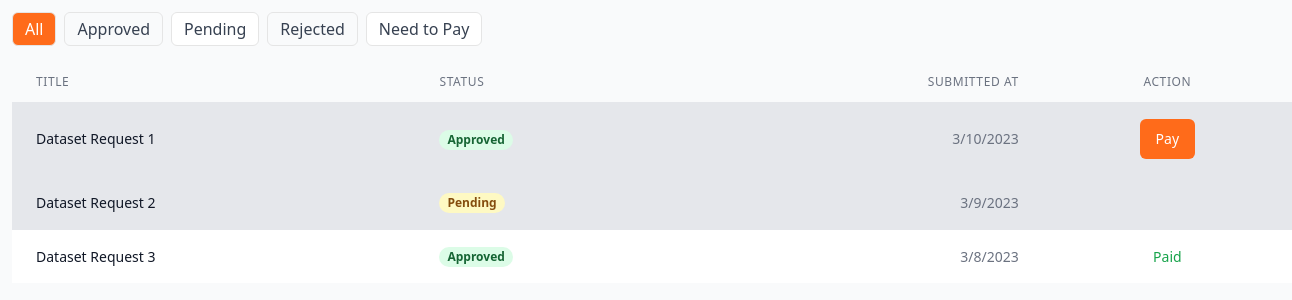
Test: DatasetRequestTable Component › filters requests by Need to Pay toggle
Expected: the text "Dataset Request 1" is shown, 12,102 -> 415,176
Expected: the text "Dataset Request 3" is shown, 12,230 -> 415,283
// Toggle the "Need to Pay" button.
Click the button "Need to Pay". click: (424, 29)
box: 366,12 -> 482,46
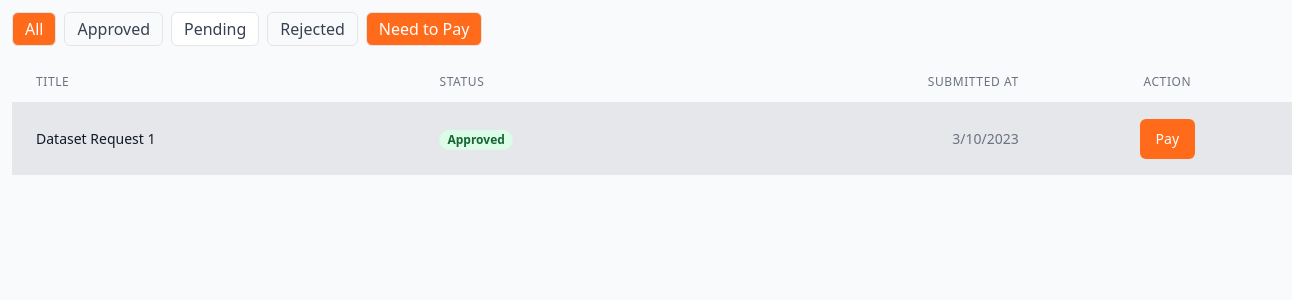
Expected: the text "Dataset Request 1" is shown, 12,102 -> 415,175
Result: the text "Dataset Request 3" is gone
